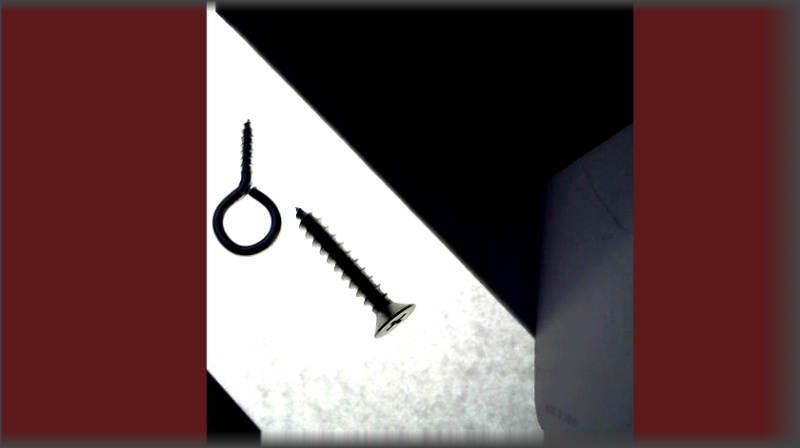O001: (211, 117, 281, 257)
S001: (291, 203, 418, 340)
